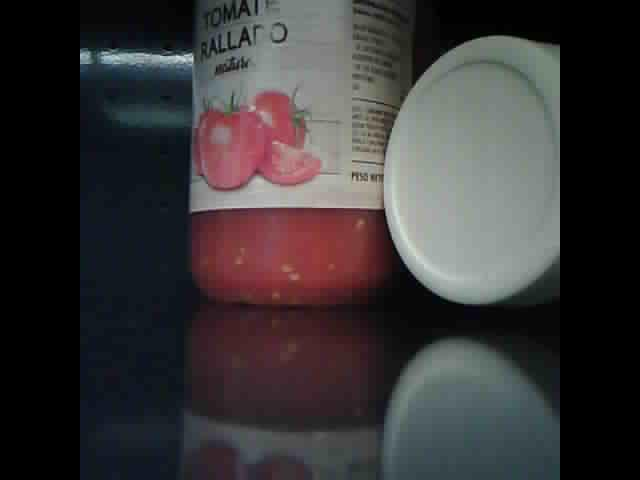tomate: (192, 4, 417, 302), (383, 34, 558, 310)
